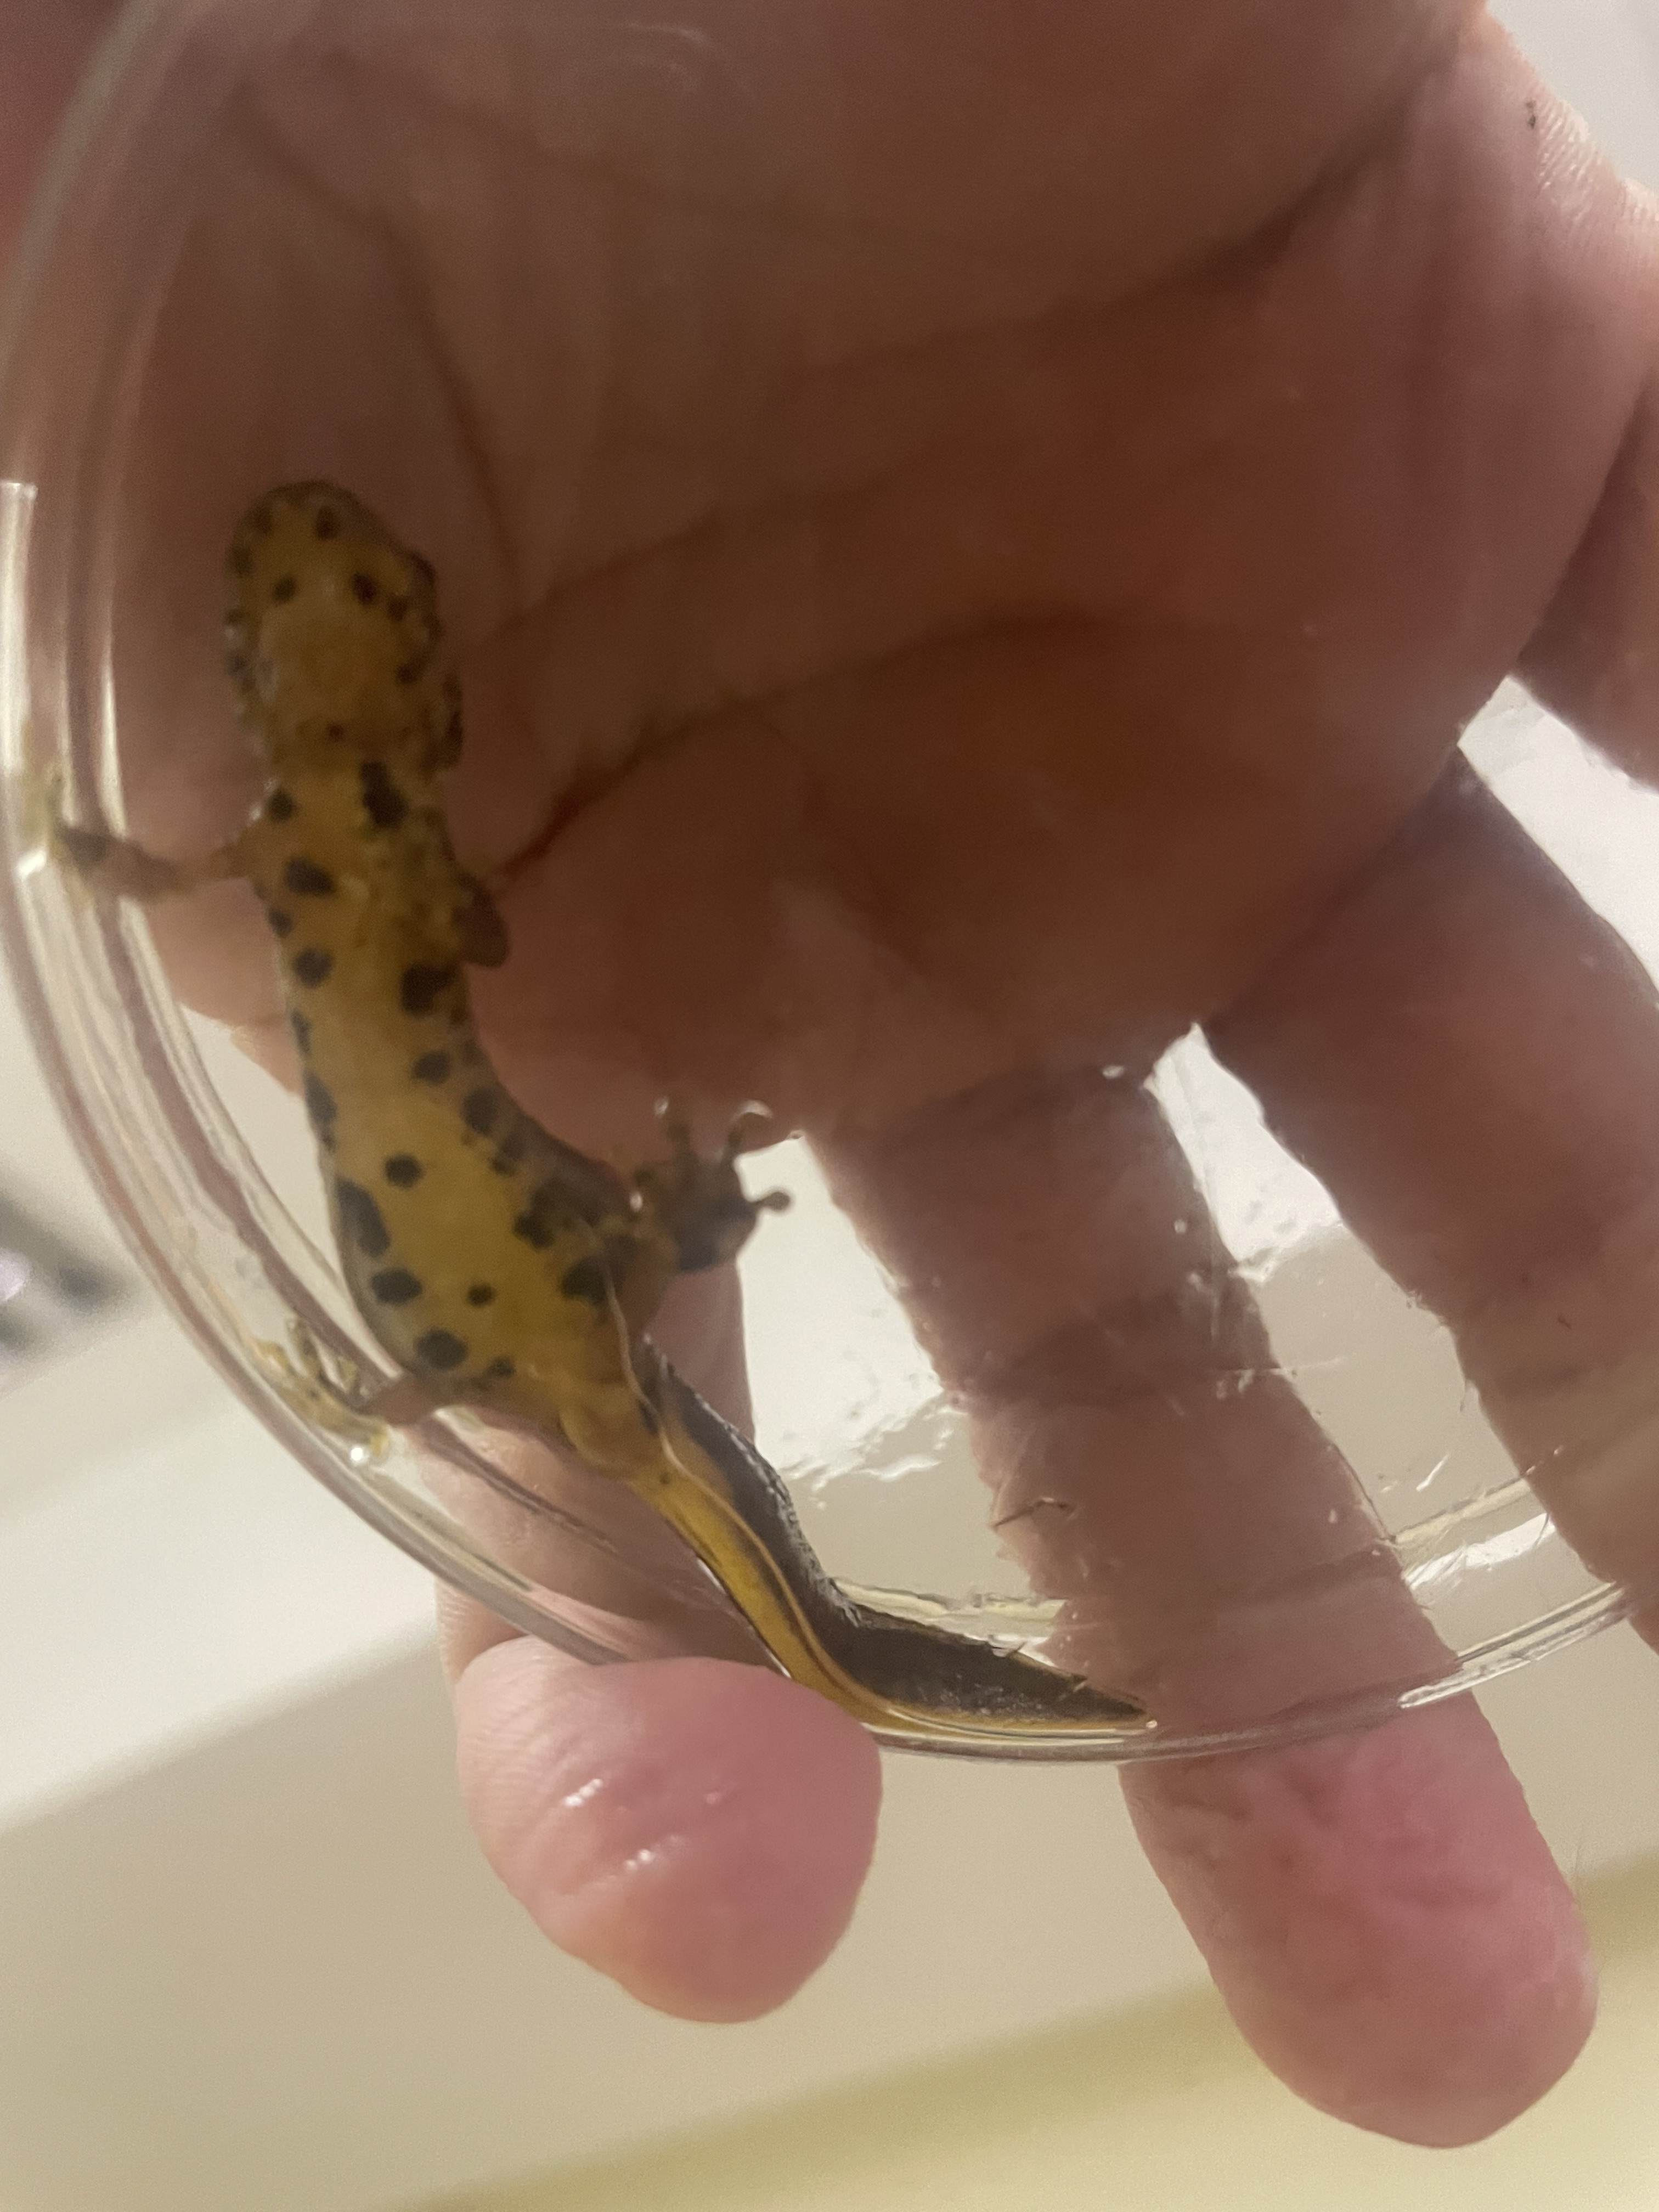Karelin_newt: (251, 873, 629, 1371)
